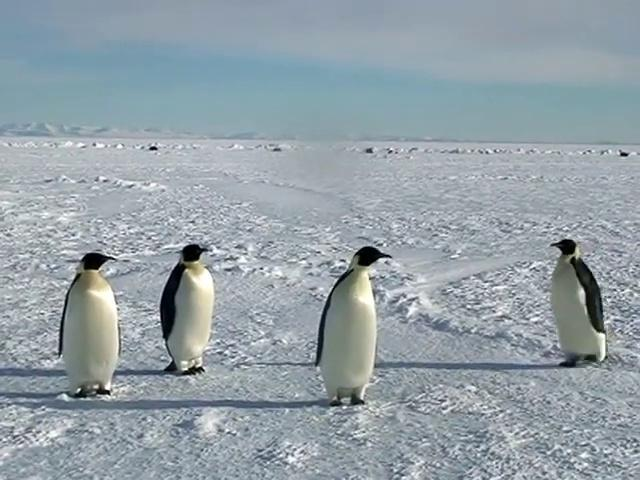animal: (316, 247, 392, 406)
